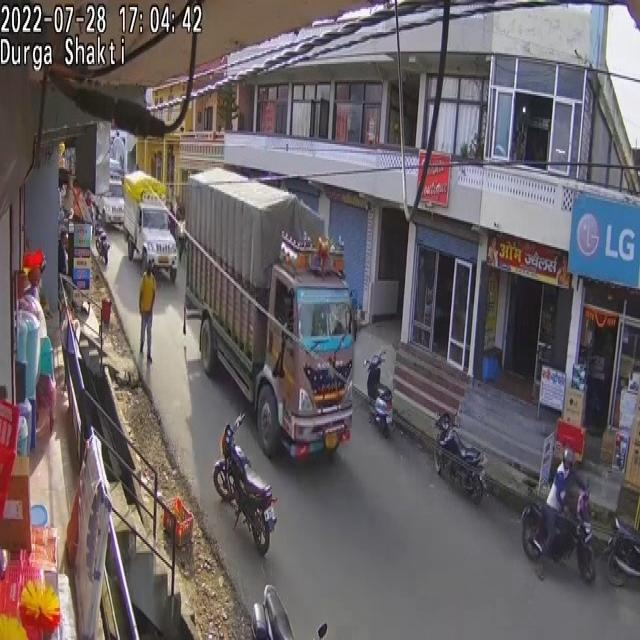non-fight: (538, 417, 578, 572), (138, 261, 156, 363)
